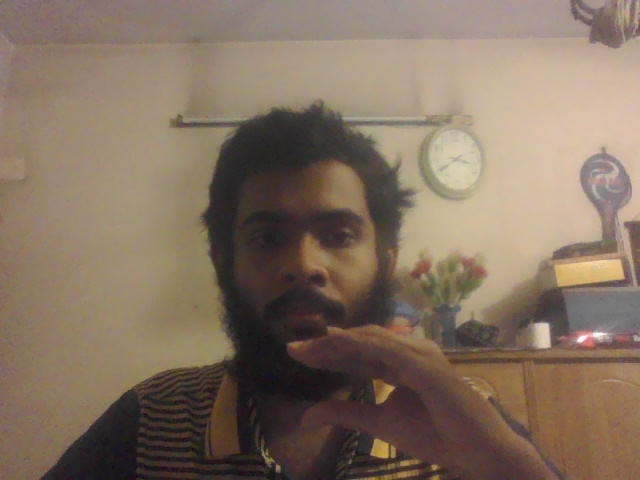No: (286, 327, 504, 454)
